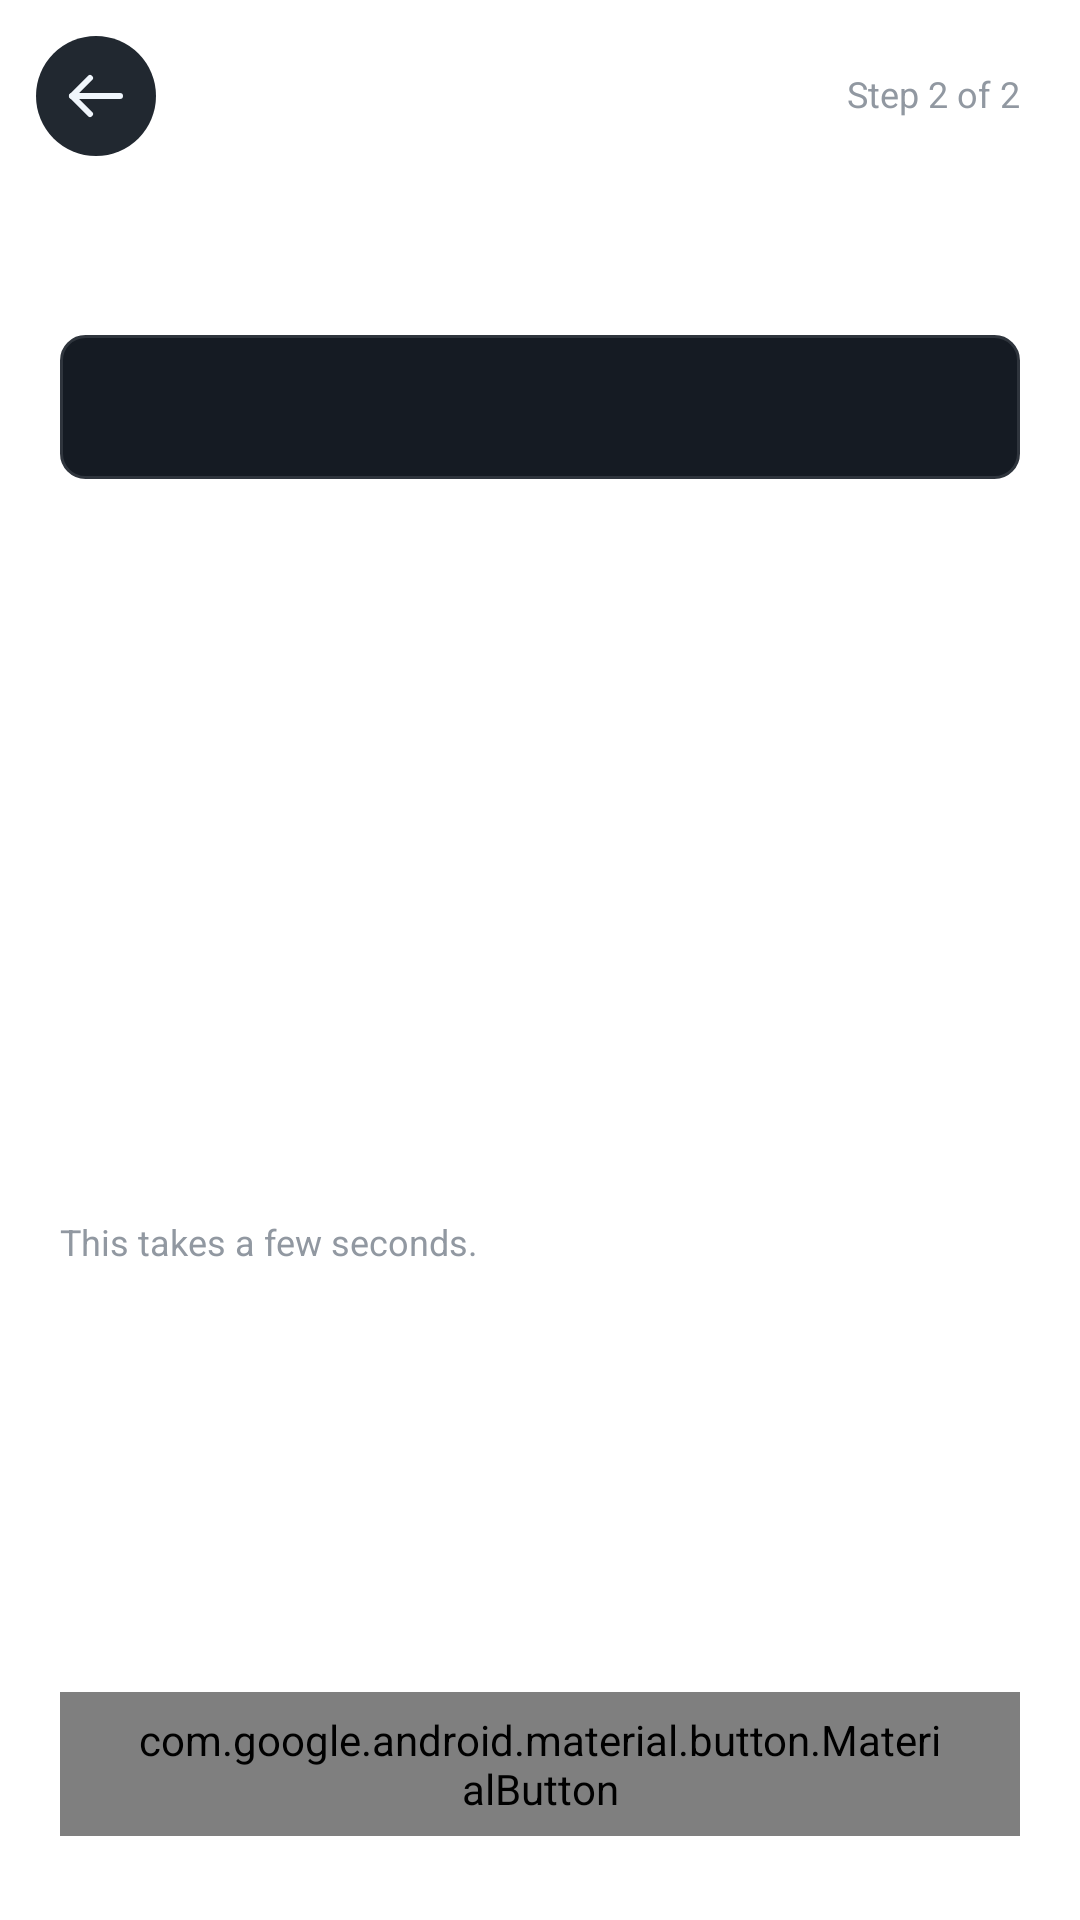

Screen size 1080x1920. Icon name, then its center in pixels as [x,y]:
Back: [96,96]
